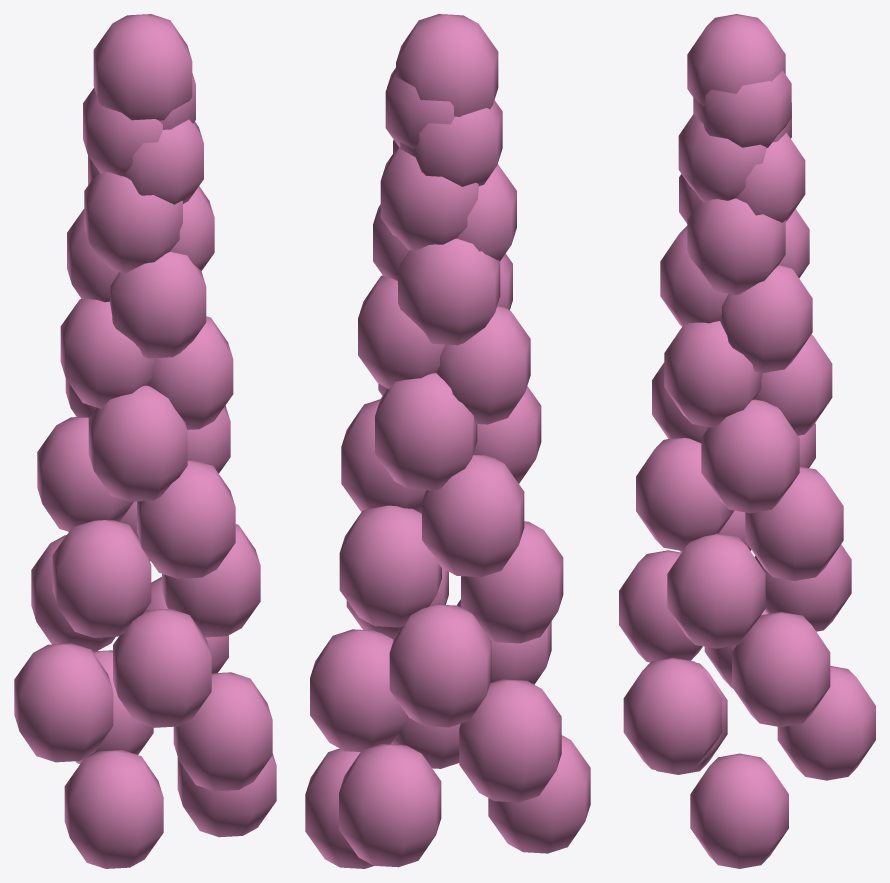
The model's file is flower-spike.glb.
The picture shows the model from 3 angles, left to right: view 1: azimuth 30°, elevation 25°; view 2: azimuth 150°, elevation 25°; view 3: azimuth 270°, elevation 25°; orthographic projection. The views are drawn at different scales.
Parts seen in each view (by area): view 1: tint-surface; view 2: tint-surface; view 3: tint-surface.
Boxes of the visible parts, x1=… form: tint-surface: x1=14, y1=14, x2=276, y2=868; tint-surface: x1=305, y1=14, x2=590, y2=868; tint-surface: x1=619, y1=14, x2=875, y2=868.
Size of the model in its own units: 0.289 by 0.9496 by 0.273.
